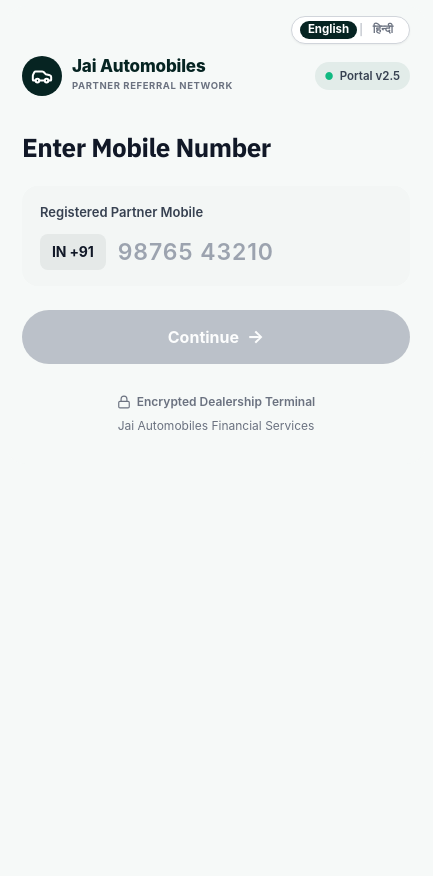
it: Referral Portal Final Updates Test Suite › PIN-code Location Autofill Requirement › accurately resolves rural and town-level postal code 470229 to Garhakota, Sagar, Madhya Pradesh
The width and height of the screenshot is (433, 876).
Type "9876543210" into the field with placeholder "98765 43210" at (237, 252), box [118,238,356,266]
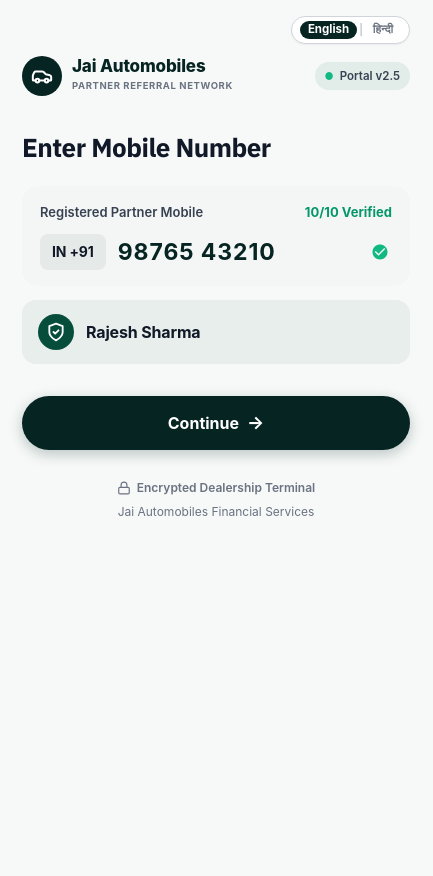
Expected: the text "Rajesh Sharma" is shown, [86,322,200,342]
Click the button "Continue →" at (216, 423), box [22,396,410,450]
(page scrolled)
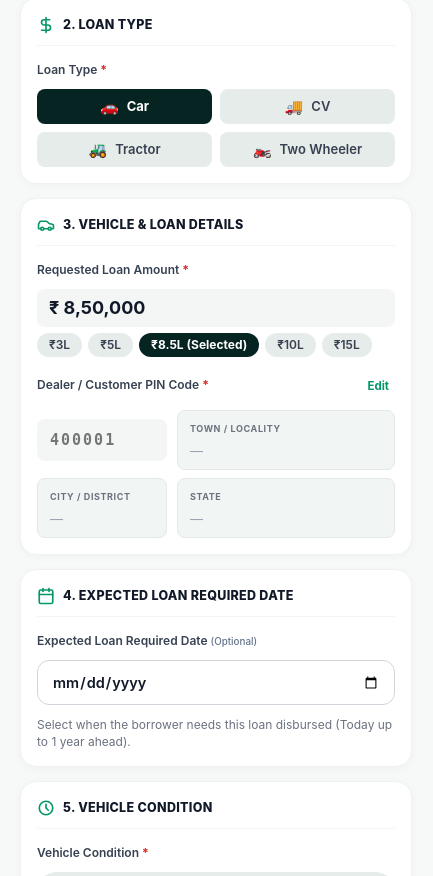
Expected: the field with id "customer-pincode" is shown
Type "470229" into the field with id "customer-pincode" at (102, 440), box [37,419,167,461]
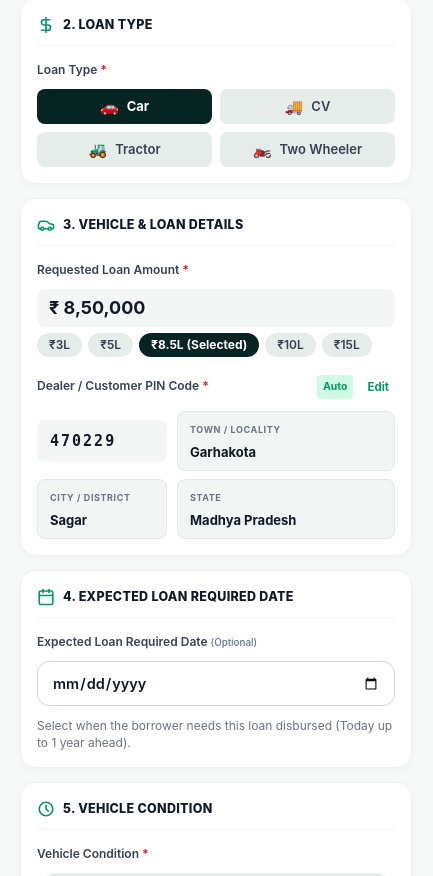
Expected: the element with class "city-value" shows "Garhakota", [190,444,256,460]
Expected: the element with class "city-value" shows "Sagar", [50,512,87,528]
Expected: the element with class "city-value" shows "Madhya Pradesh", [190,512,296,528]
